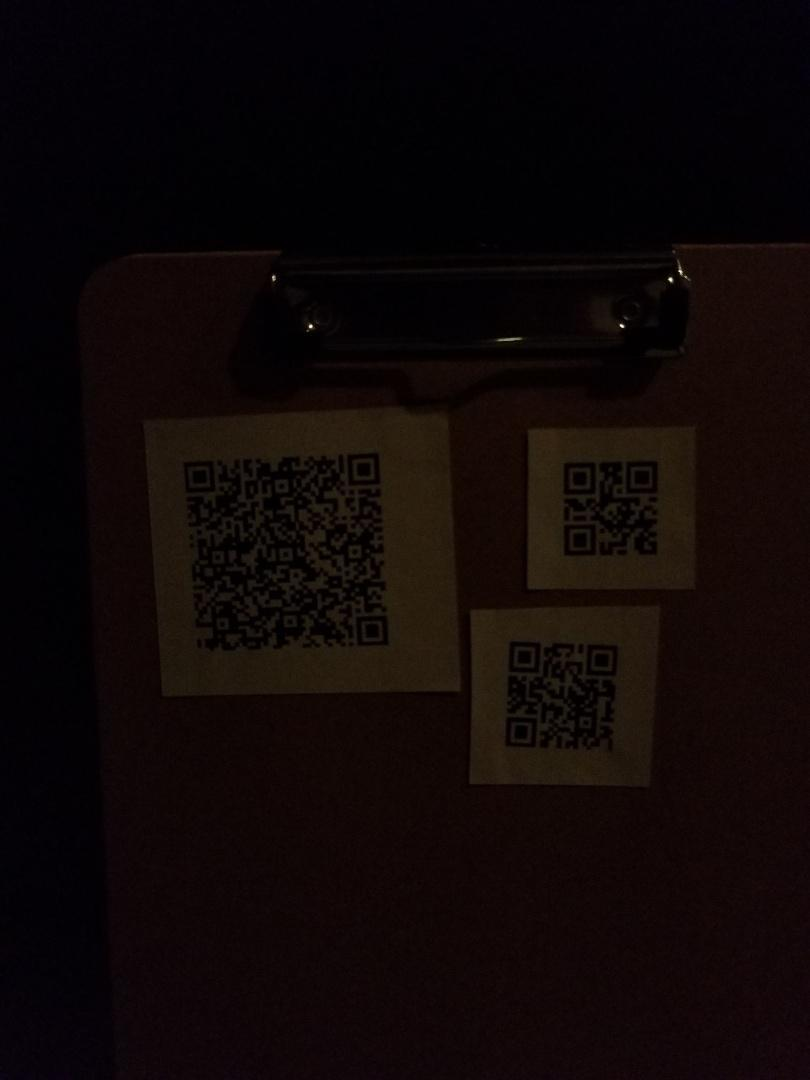Finder pattern: (497, 711, 544, 754), (555, 456, 602, 497), (557, 519, 600, 560), (583, 637, 623, 681), (620, 457, 662, 497), (504, 636, 545, 675), (351, 612, 393, 650), (343, 448, 384, 486), (178, 457, 219, 493)
